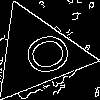O: (12, 28, 74, 83)
